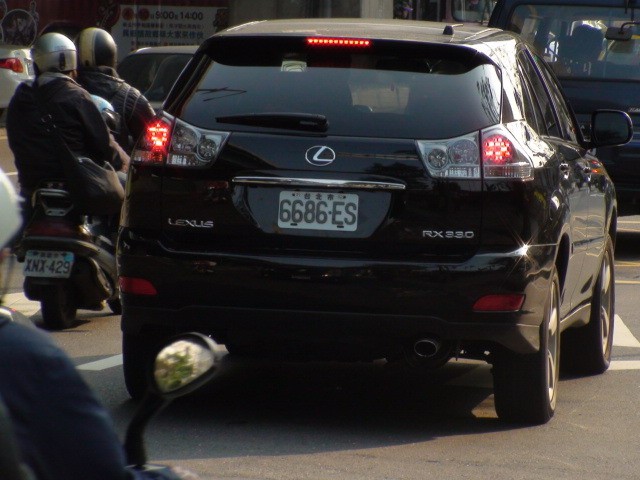plate: (275, 185, 362, 235), (20, 247, 78, 283)
